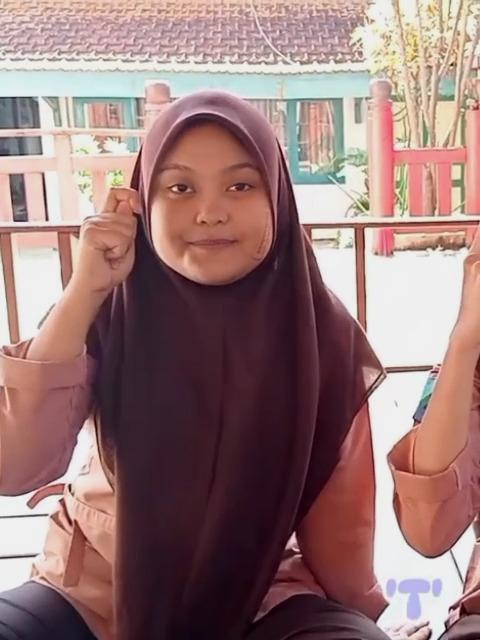T: (70, 185, 146, 292)
